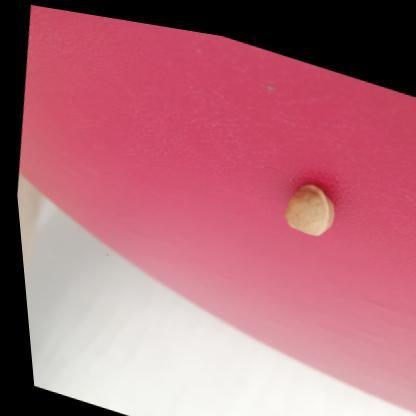pistachio: (280, 181, 335, 236)
